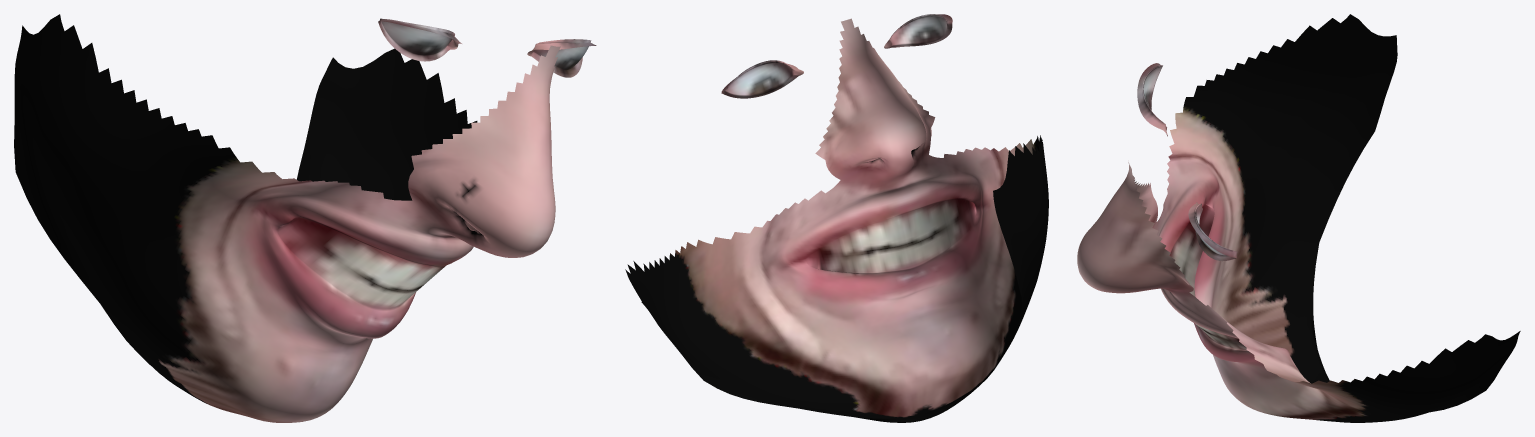
The picture shows the model from 3 angles, left to right: view 1: azimuth 30°, elevation 25°; view 2: azimuth 150°, elevation 25°; view 3: azimuth 270°, elevation 25°; orthographic projection. The views are drawn at different scales.
Visible parts, largest first — view 1: FBHead; view 2: FBHead; view 3: FBHead.
Part boxes in pixels (x1,y1,x2,y2): FBHead: (14,14,596,422); FBHead: (625,14,1048,422); FBHead: (1077,14,1520,422).
Bounding box in the file's own units: 0.6478 × 0.5687 × 0.6522.
Materials: 1 (1 with a texture image).
